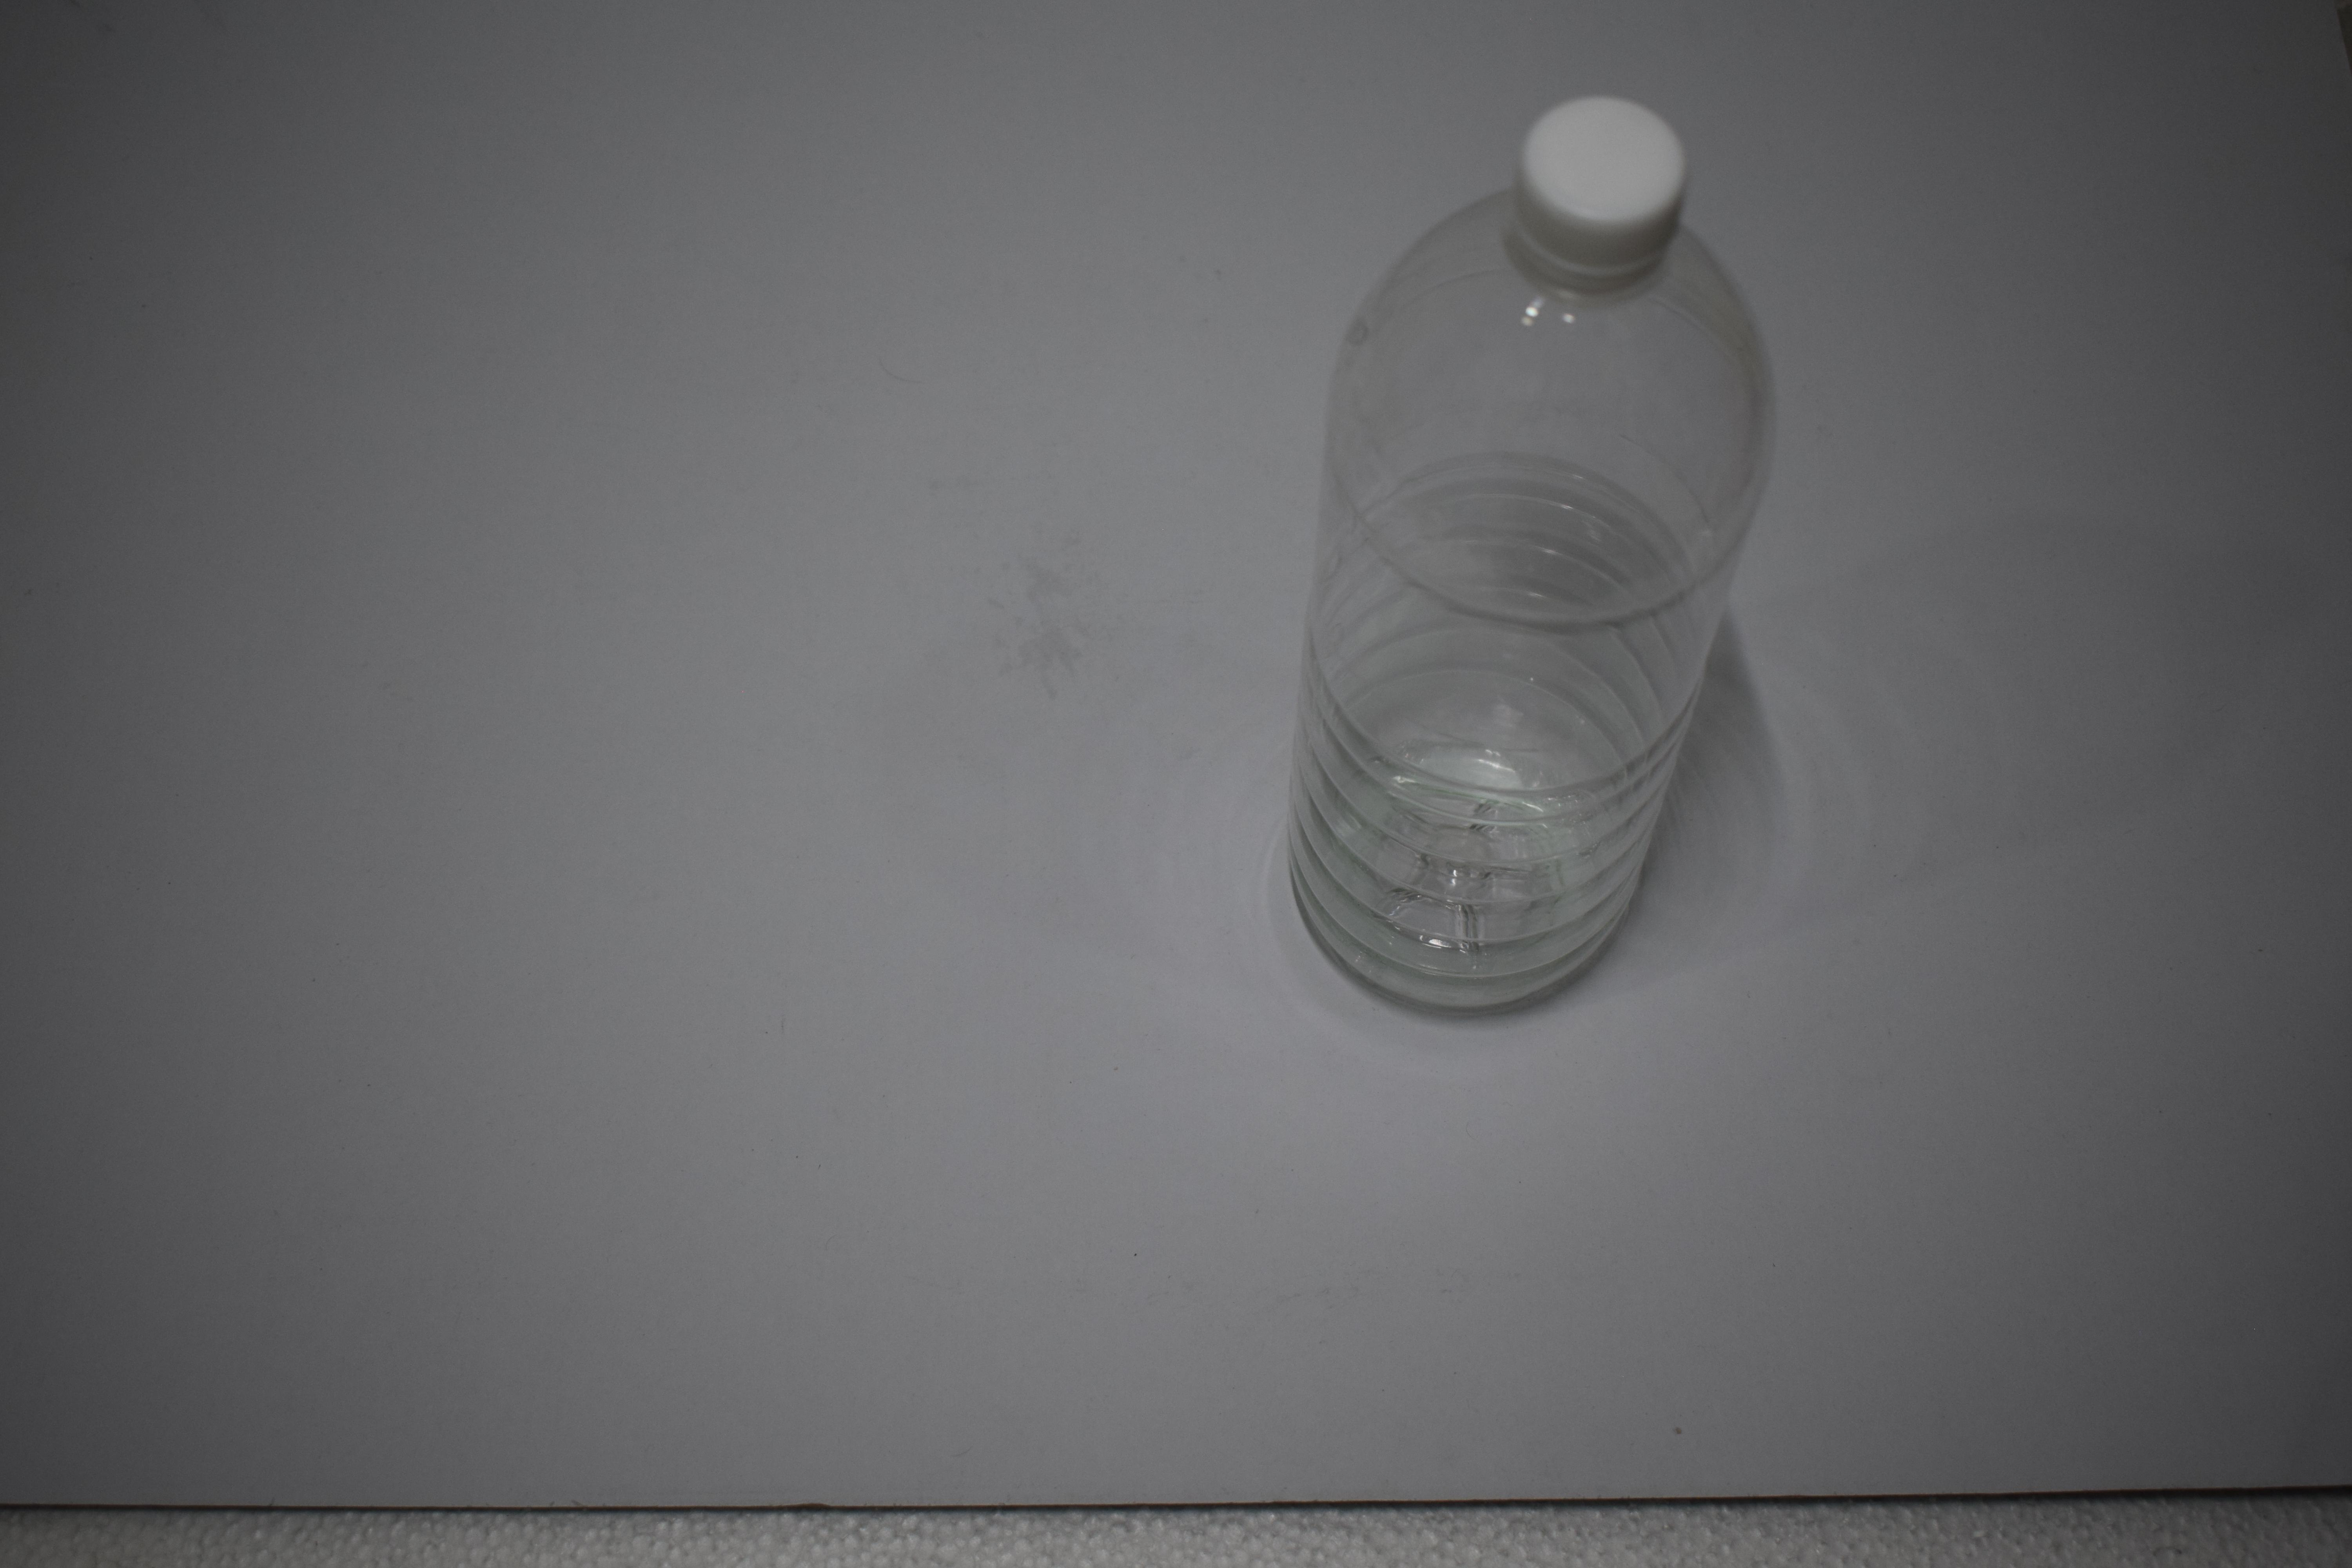bottle: (1172, 401, 1670, 544)
